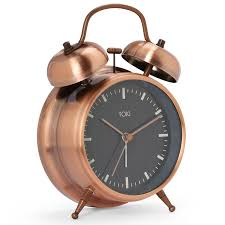alarm_clock: (35, 2, 186, 218), (35, 5, 186, 218)
